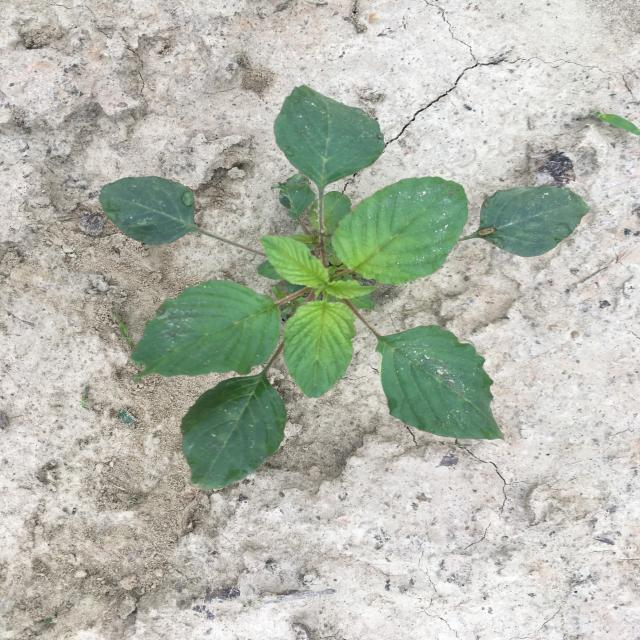PalmerAmaranth: (99, 85, 590, 488)
